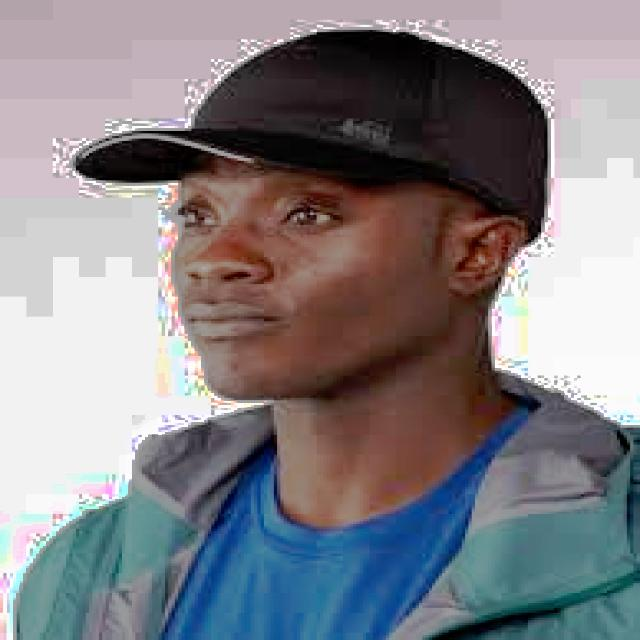TOPI: (63, 19, 551, 240)
